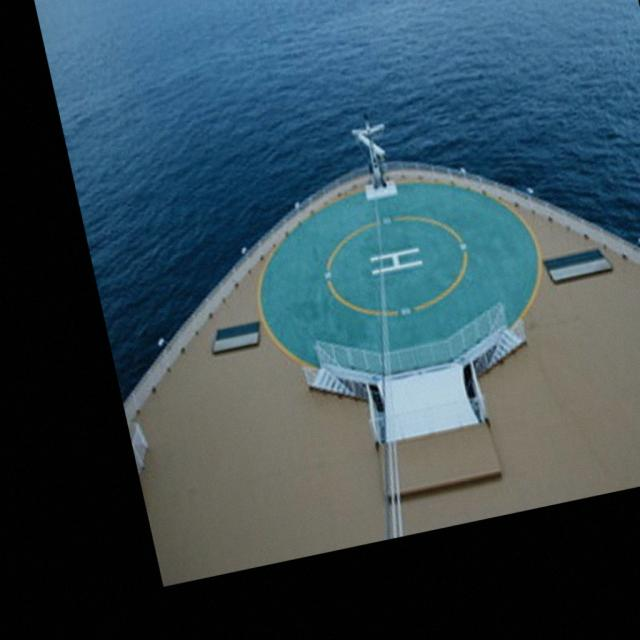helipad: (322, 212, 471, 318)
